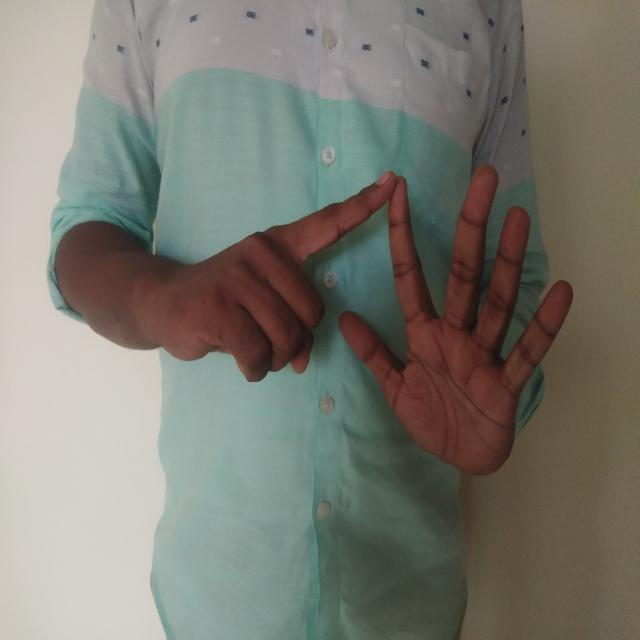E: (155, 154, 582, 488)
